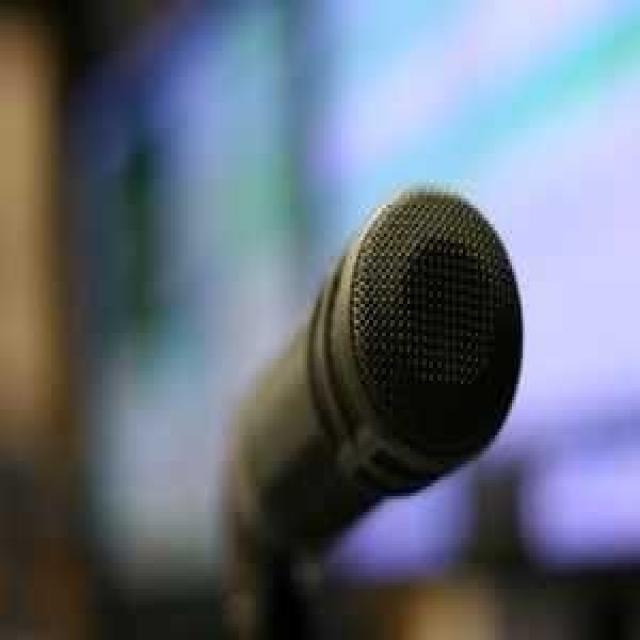microphone: (229, 181, 521, 559)
